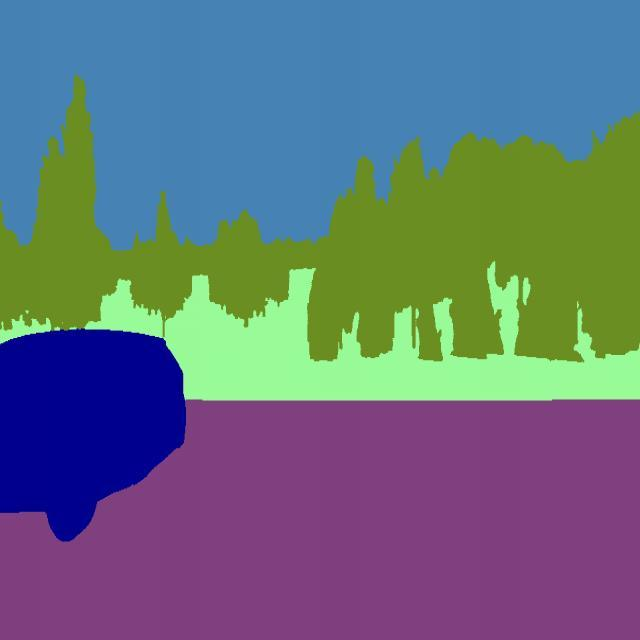unsafe: (0, 318, 189, 549)
